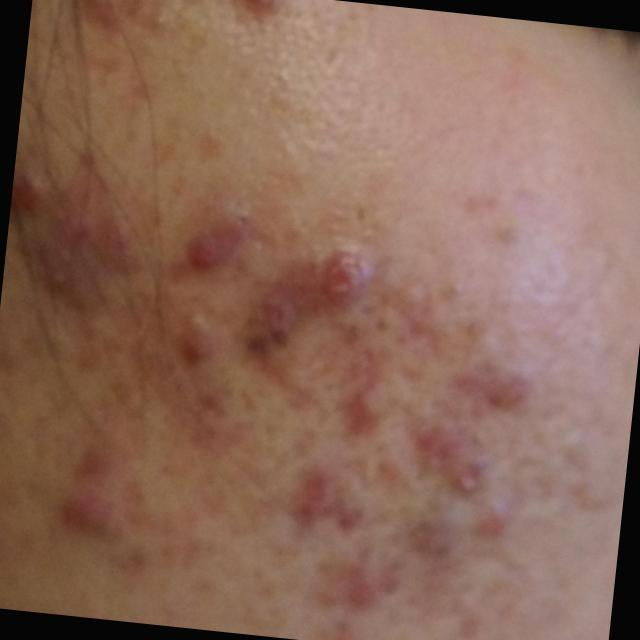nodule: (316, 247, 372, 311), (59, 491, 117, 536)
